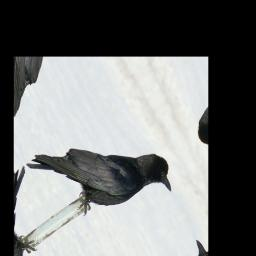Crow: (24, 87, 181, 256)
